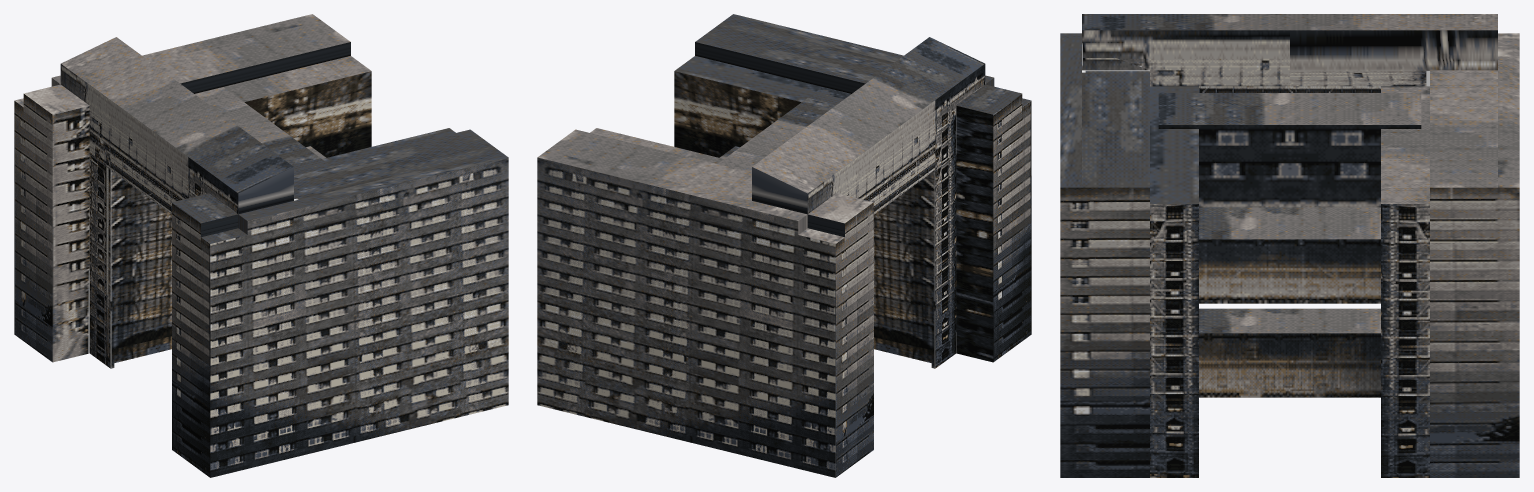
The model's file is buildingcamebdrige 1.fbx.
3 views of the same model, side by side, from view 1: azimuth 30°, elevation 25°; view 2: azimuth 150°, elevation 25°; view 3: azimuth 270°, elevation 25° (orthographic). The views are drawn at different scales.
Parts seen in each view (by area): view 1: Cube.501; view 2: Cube.501; view 3: Cube.501.
Part boxes in pixels (x1,y1,x2,y2): Cube.501: (14,14,508,477); Cube.501: (537,14,1031,477); Cube.501: (1060,14,1519,477).
Bounding box in the file's own units: 5553 × 5013 × 6322.
